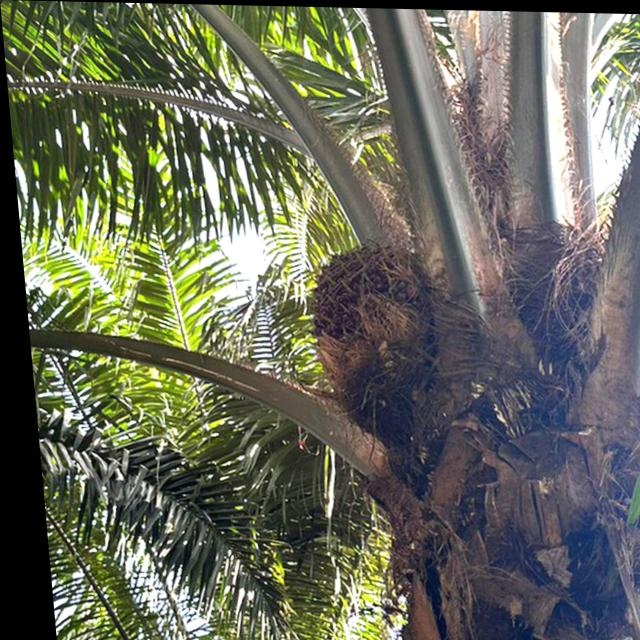almost: (291, 232, 439, 396)
